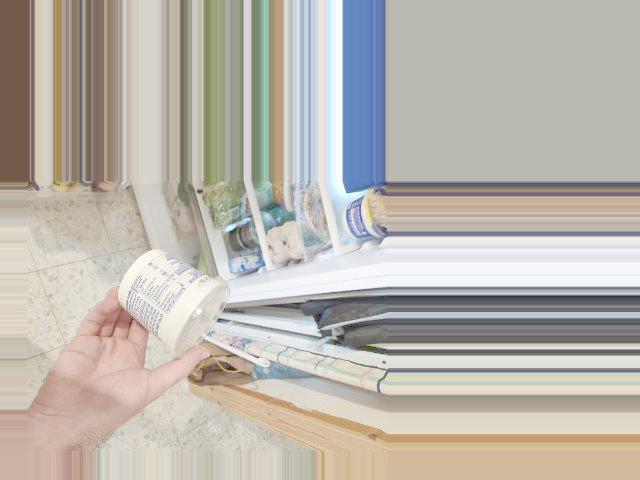cotage: (113, 262, 235, 357)
